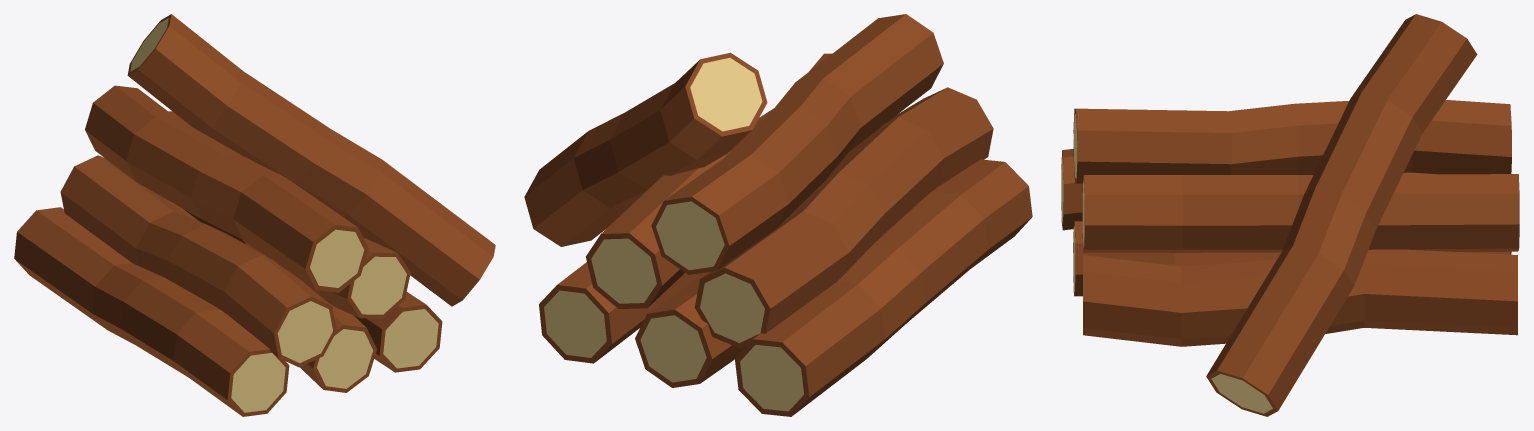
The model's file is Wood Resources.fbx.
3 views of the same model, side by side, from view 1: azimuth 30°, elevation 25°; view 2: azimuth 150°, elevation 25°; view 3: azimuth 270°, elevation 25° (orthographic). The views are drawn at different scales.
Visible parts, largest first — view 1: Log; view 2: Log; view 3: Log.
Boxes of the visible parts, bbox=[...] form: Log: bbox=[14, 14, 495, 416]; Log: bbox=[524, 14, 1032, 416]; Log: bbox=[1061, 14, 1519, 416].
Bounding box in the file's own units: 1093 × 789 × 1130.
